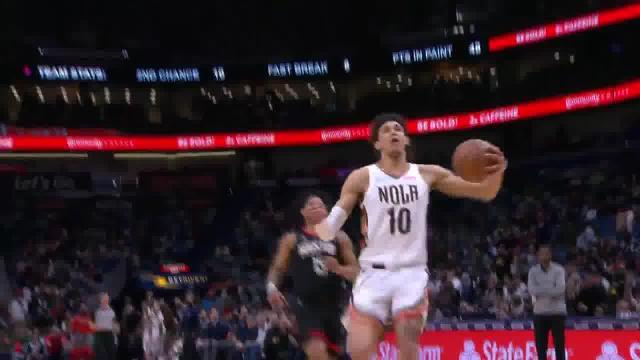ball-handler: (310, 120, 506, 360)
player: (262, 188, 360, 360)
